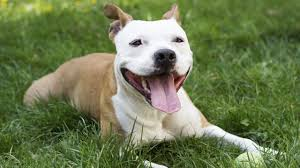Perro Pitbull: (95, 2, 235, 149)
